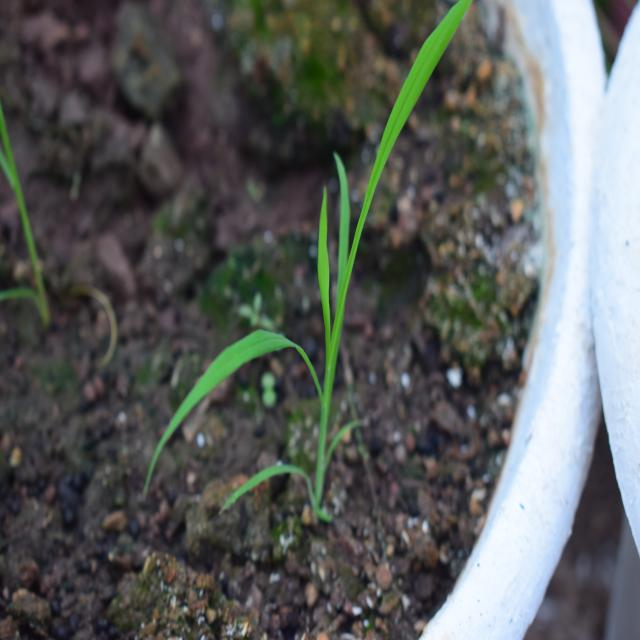barnyard_grass: (126, 21, 486, 498)
